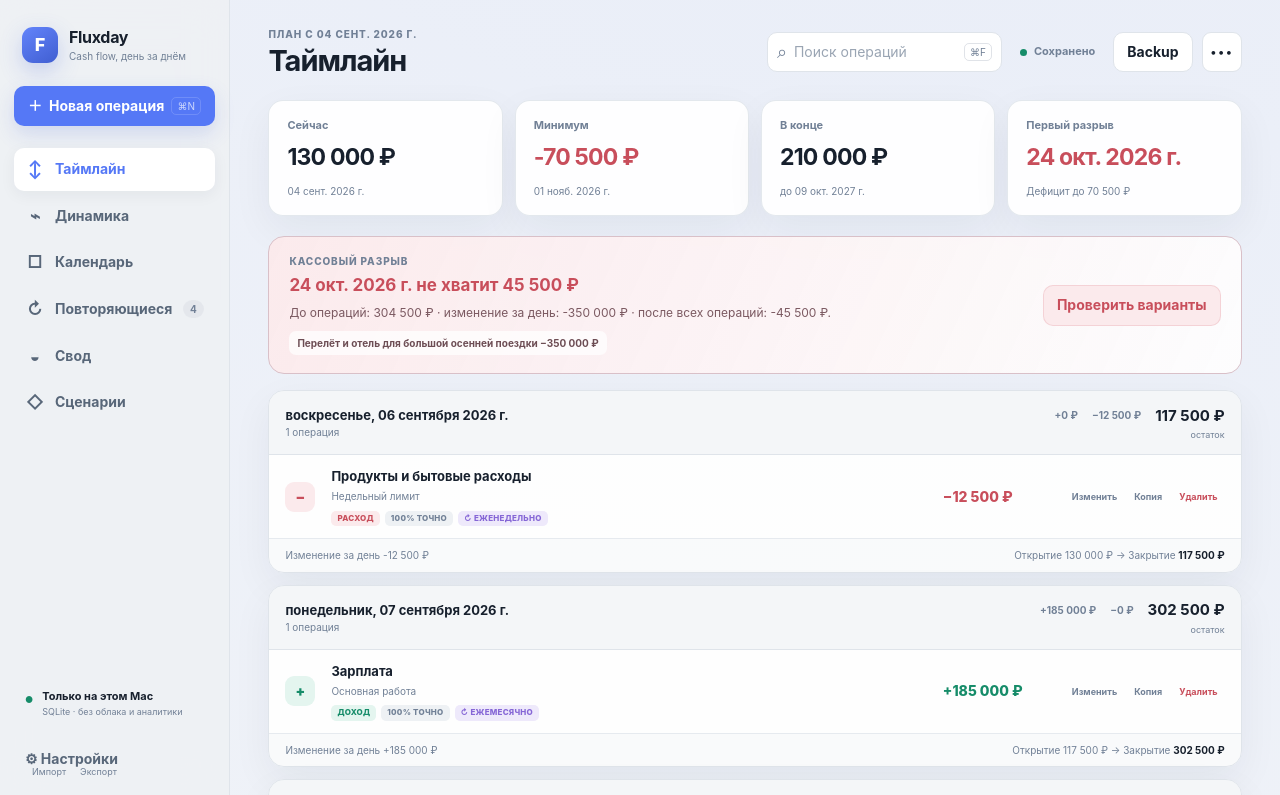
Scenario: edits and temporarily disables a recurring series
Check: the text "Зарплата" is shown, box [331, 663, 393, 679]
Click the 2nd button "Изменить" at (1094, 691), box [1065, 675, 1124, 707]
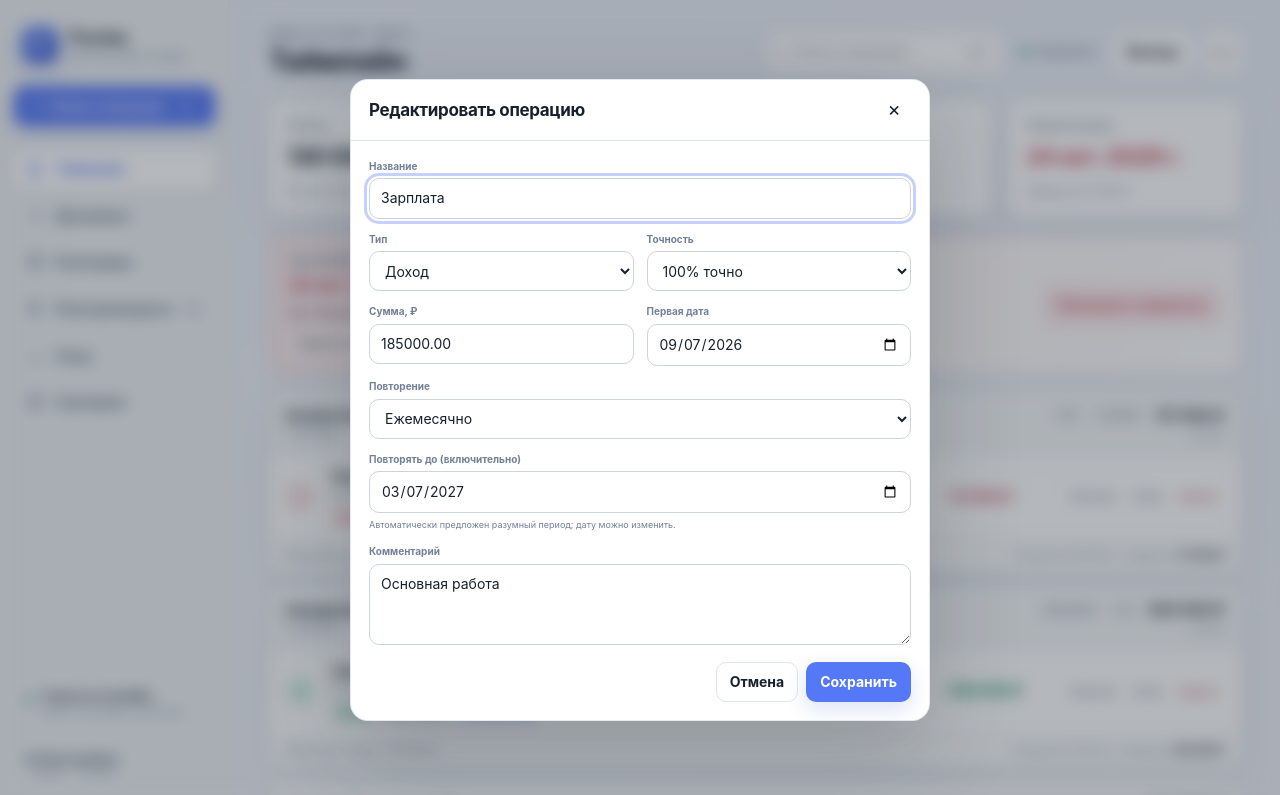
Replace the text in the field labelled "Сумма, ₽" with "200000" at (501, 344), box [369, 324, 634, 364]
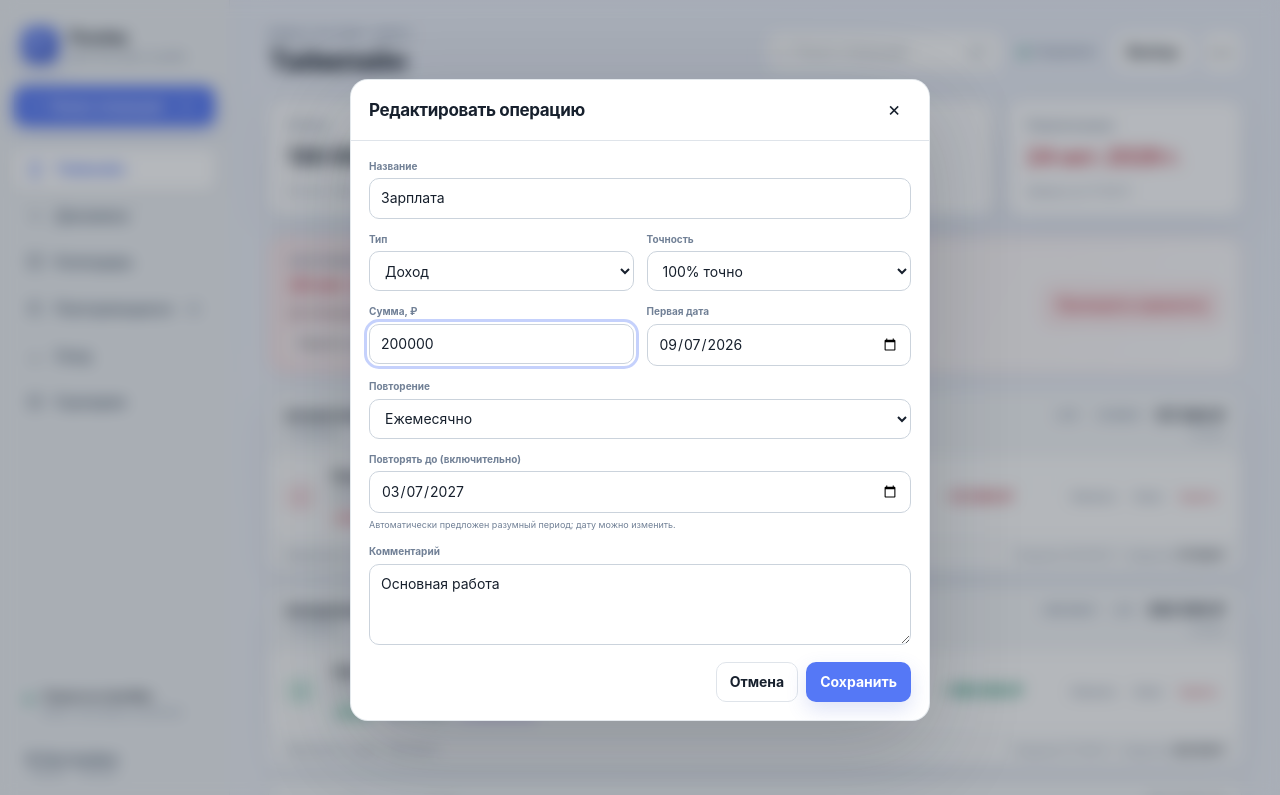
Click the button "Сохранить" at (859, 682), box [806, 662, 911, 702]
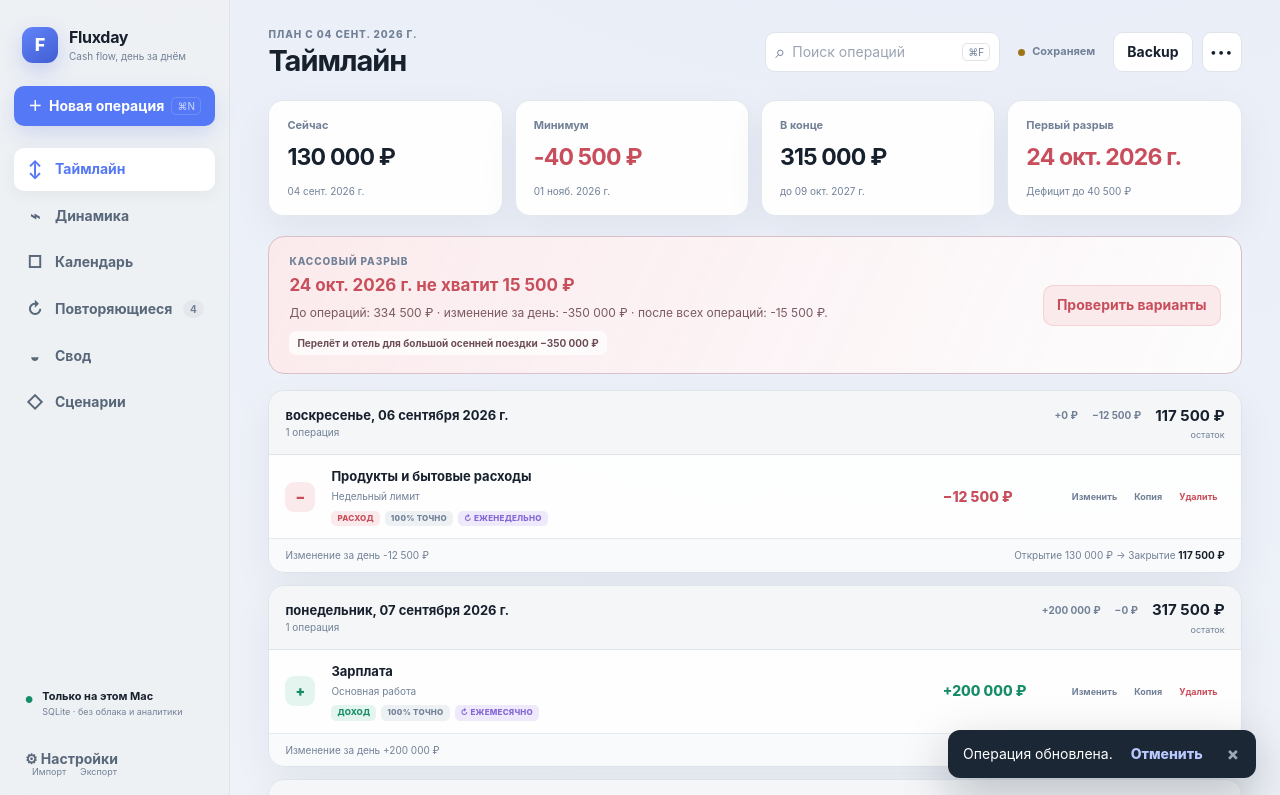
Check: the 1st text "+200 000 ₽" is shown, box [1042, 603, 1101, 617]
Click the button "↻ Повторяющиеся 4" at (114, 309), box [14, 288, 215, 330]
(page scrolled)
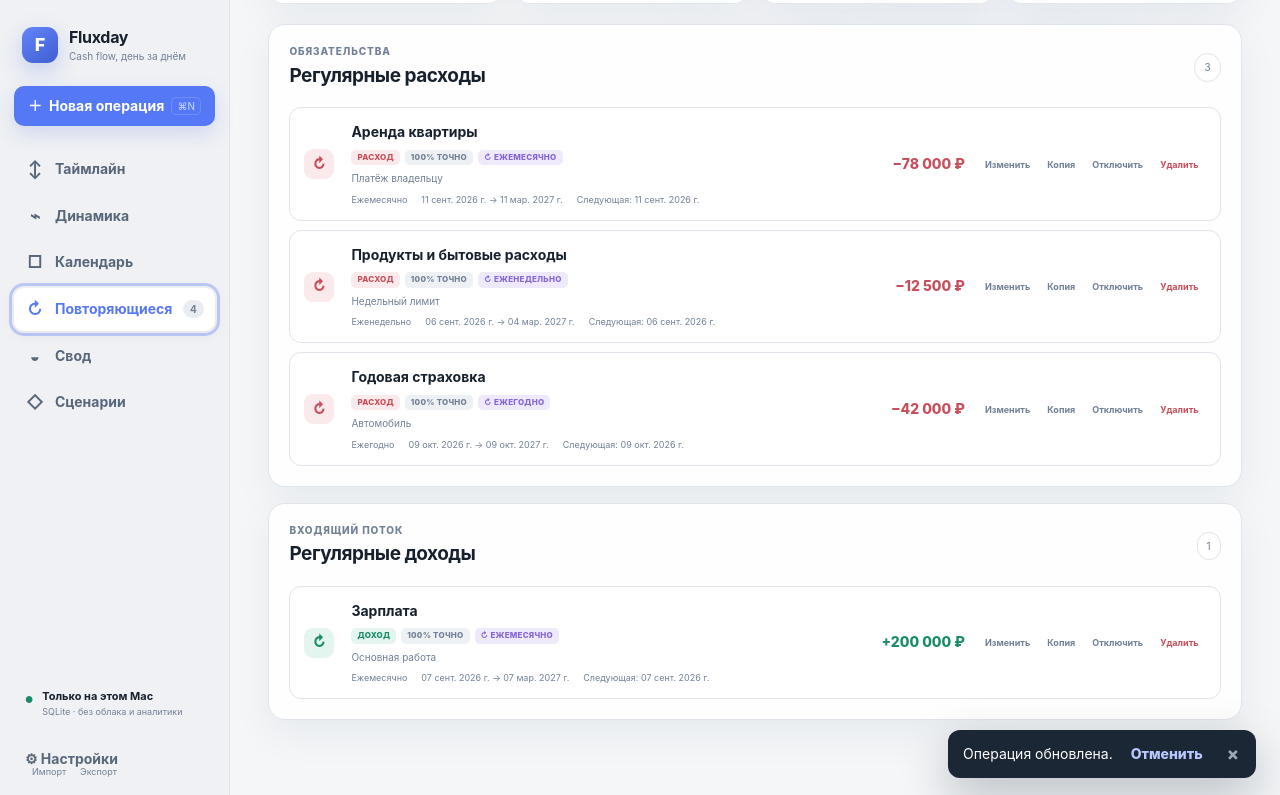
Check: the text "Зарплата" is shown, box [351, 602, 418, 619]
Click the button "Отключить" in the row of "+200 000 ₽" at (1118, 642), box [1085, 626, 1150, 658]
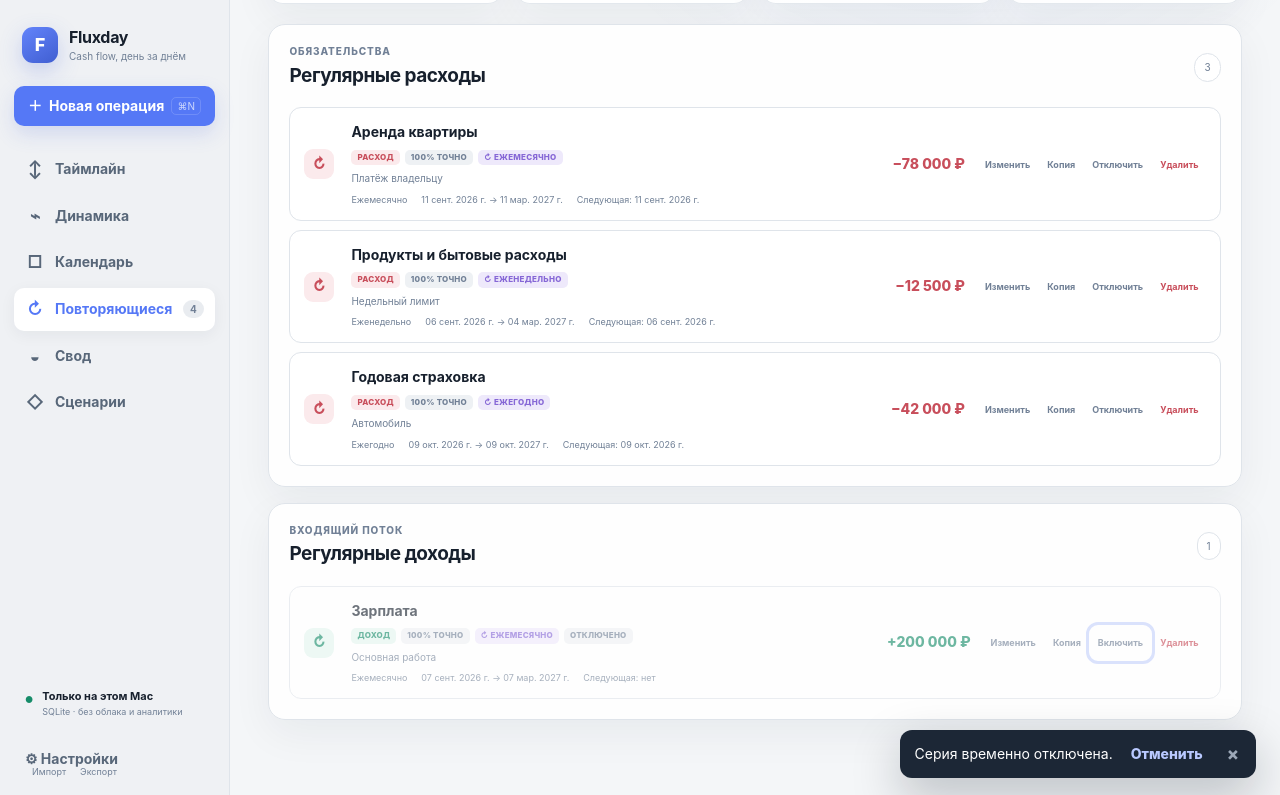
Check: the text "Отключено" is shown, box [564, 628, 633, 644]
